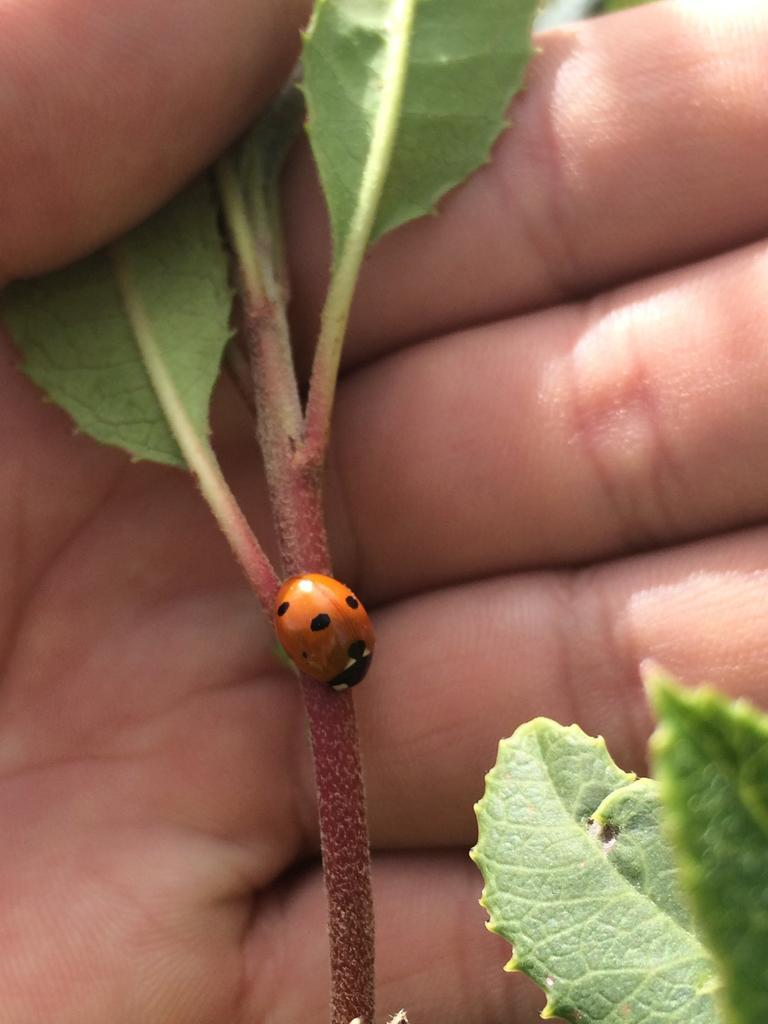ladybug: (272, 570, 381, 695)
